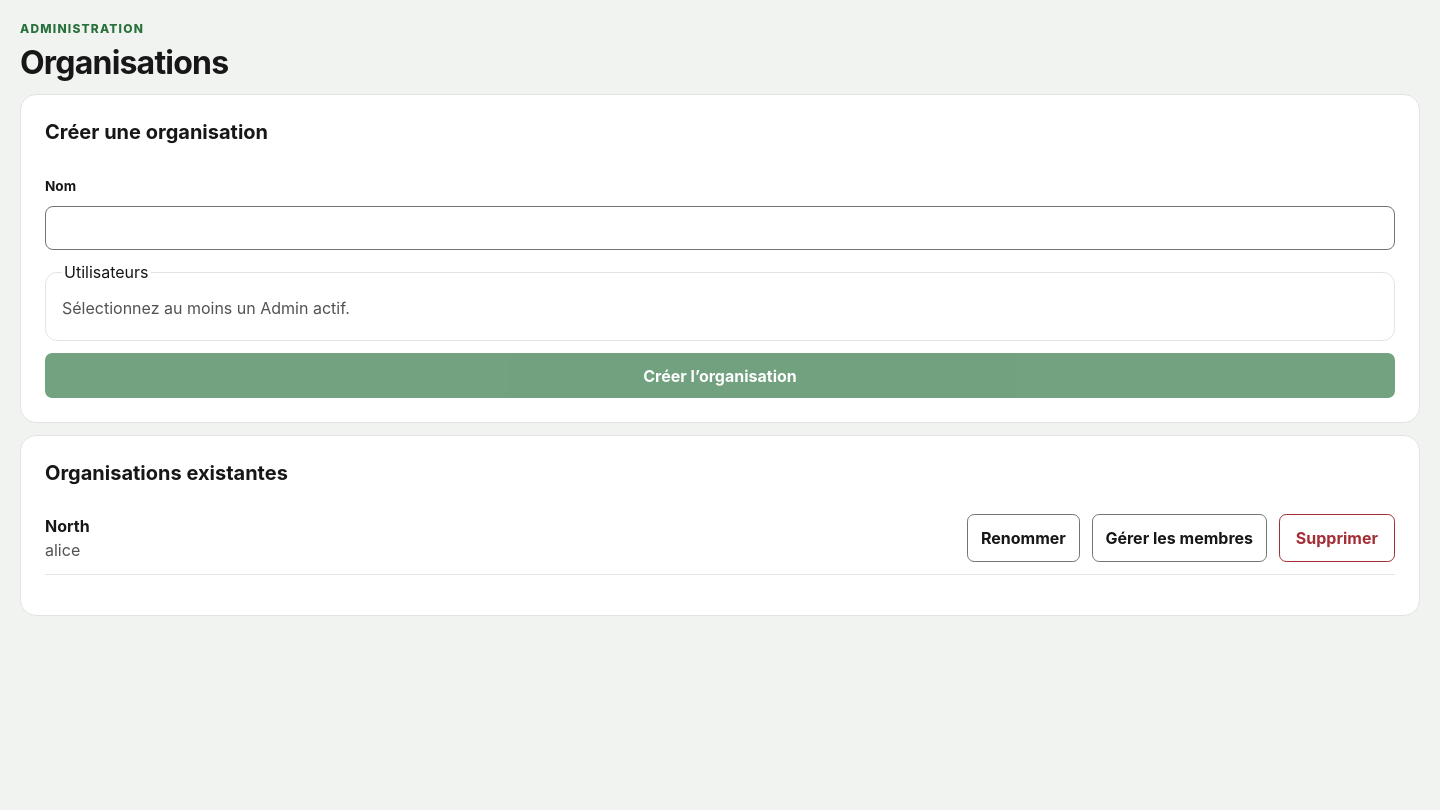
Test case: keeps the confirmation open when deletion is refused
The width and height of the screenshot is (1440, 810).
Expected: the text "North" is shown, [45,516,90,536]
Click the button "Supprimer".
click(1337, 538)  # box [1279,514,1395,562]
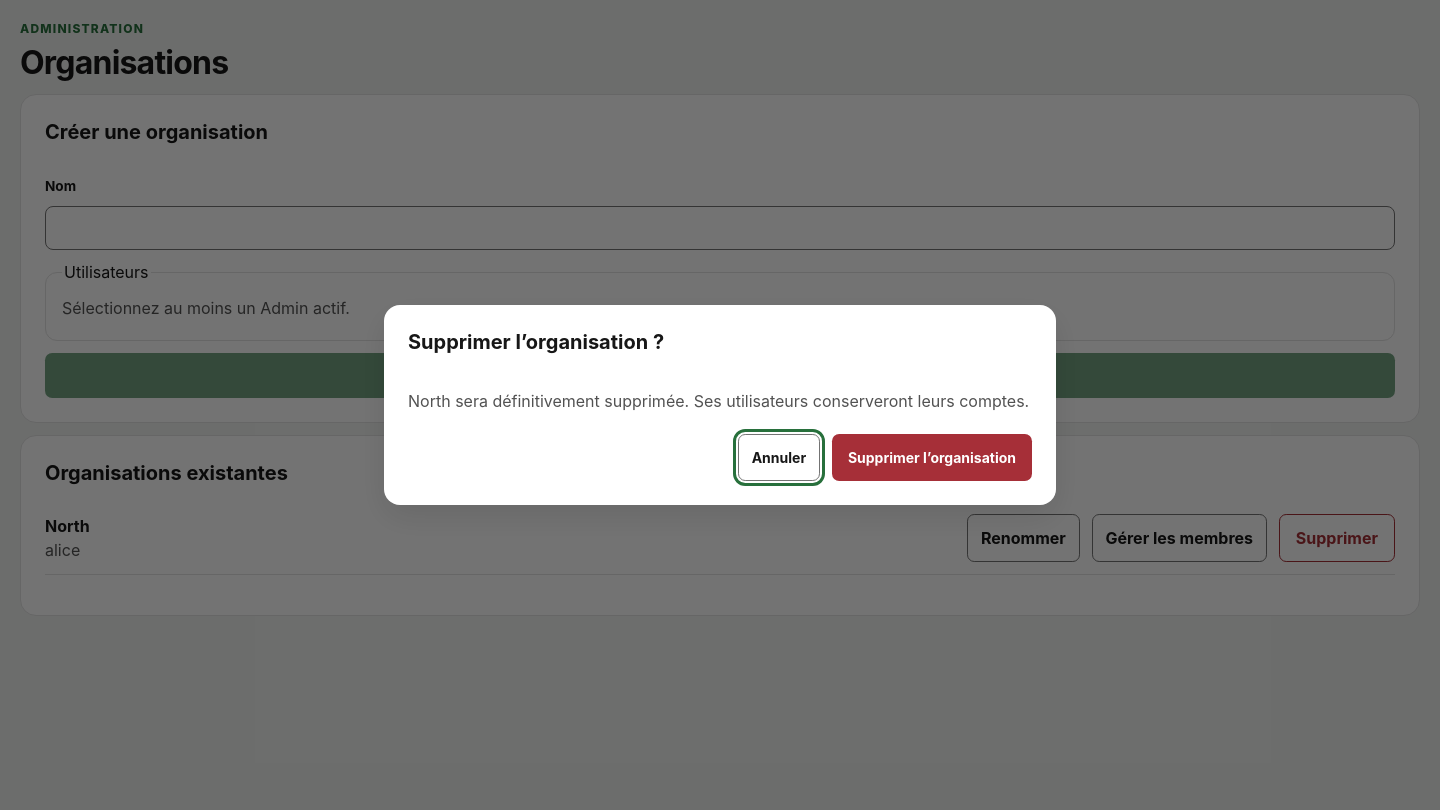
Click the button "Supprimer l’organisation".
click(932, 458)  # box [832,434,1032,481]
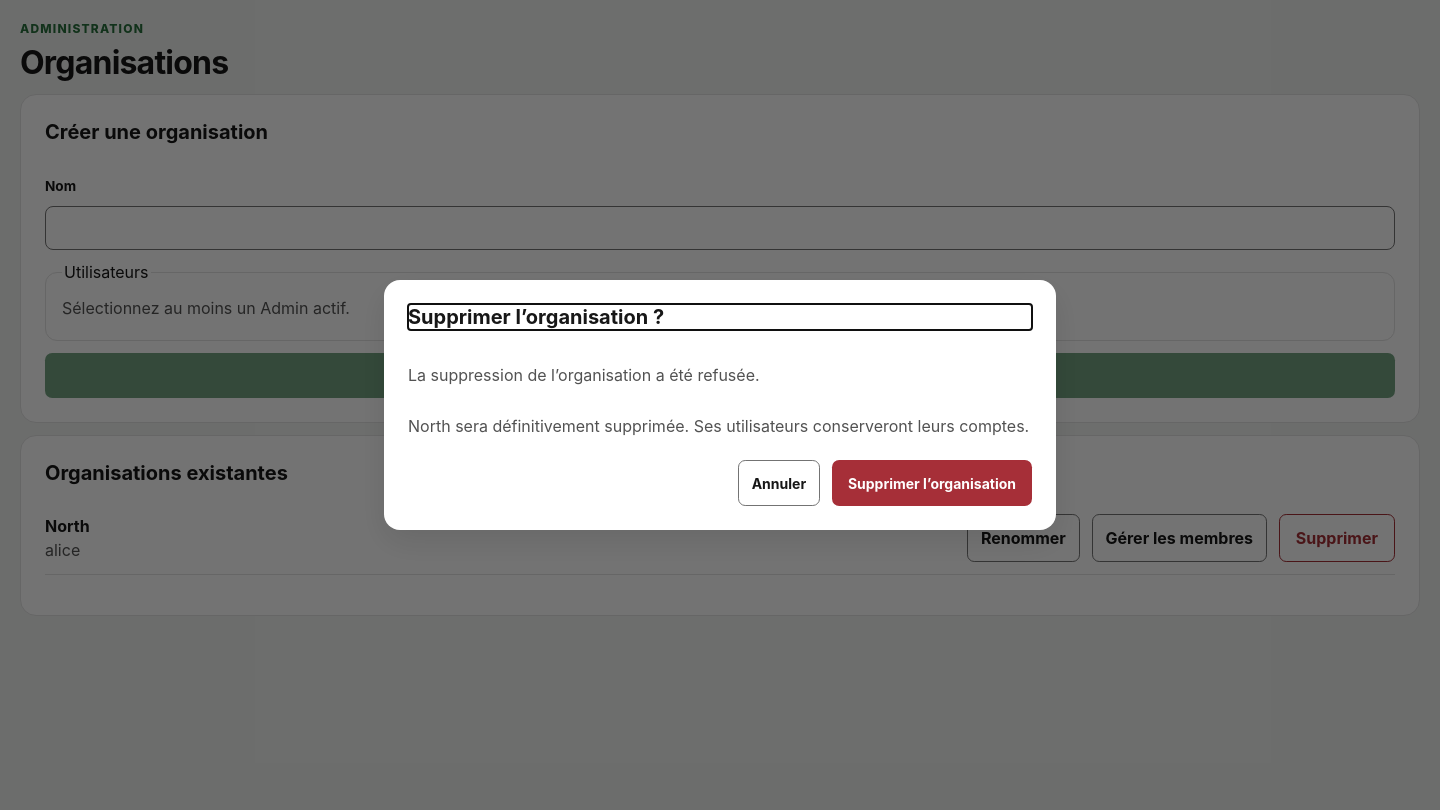
Expected: the text "North" is shown, [45,516,90,536]
Now the dialog is shown
Now the message shows "suppression de l’organisation a été refusée", box [408,365,760,385]
